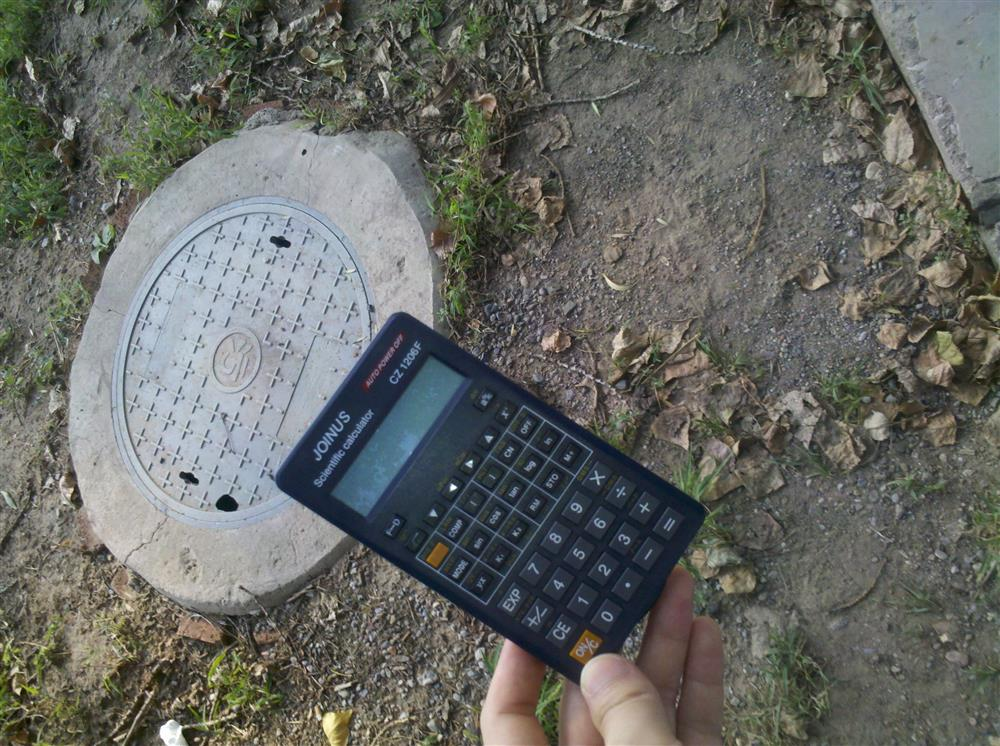Caculator: (275, 313, 707, 680)
